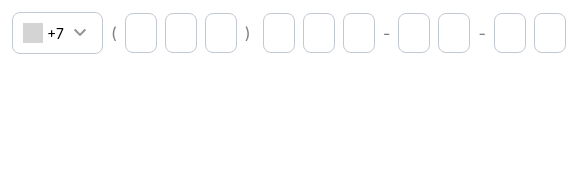
Test: PhoneInput › вставка › отбрасывает префикс +375 при вставке полного номера
Click the field named "Позиция 1 в номере": x=141, y=33 [125,13,157,53]
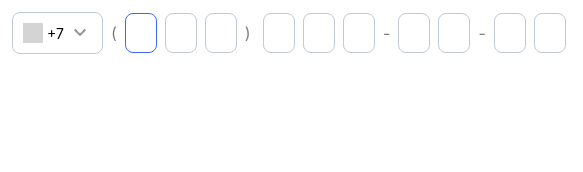
Type keys "+375 29 123-45-67"
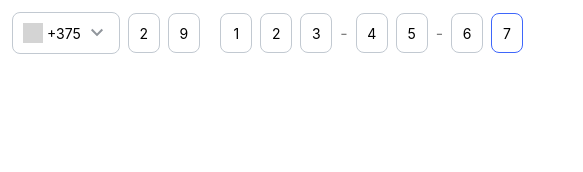
Expected: the field named "Позиция 1 в номере" holds "2", [128,13,160,53]
Expected: the field named "Позиция 2 в номере" holds "9", [168,13,200,53]
